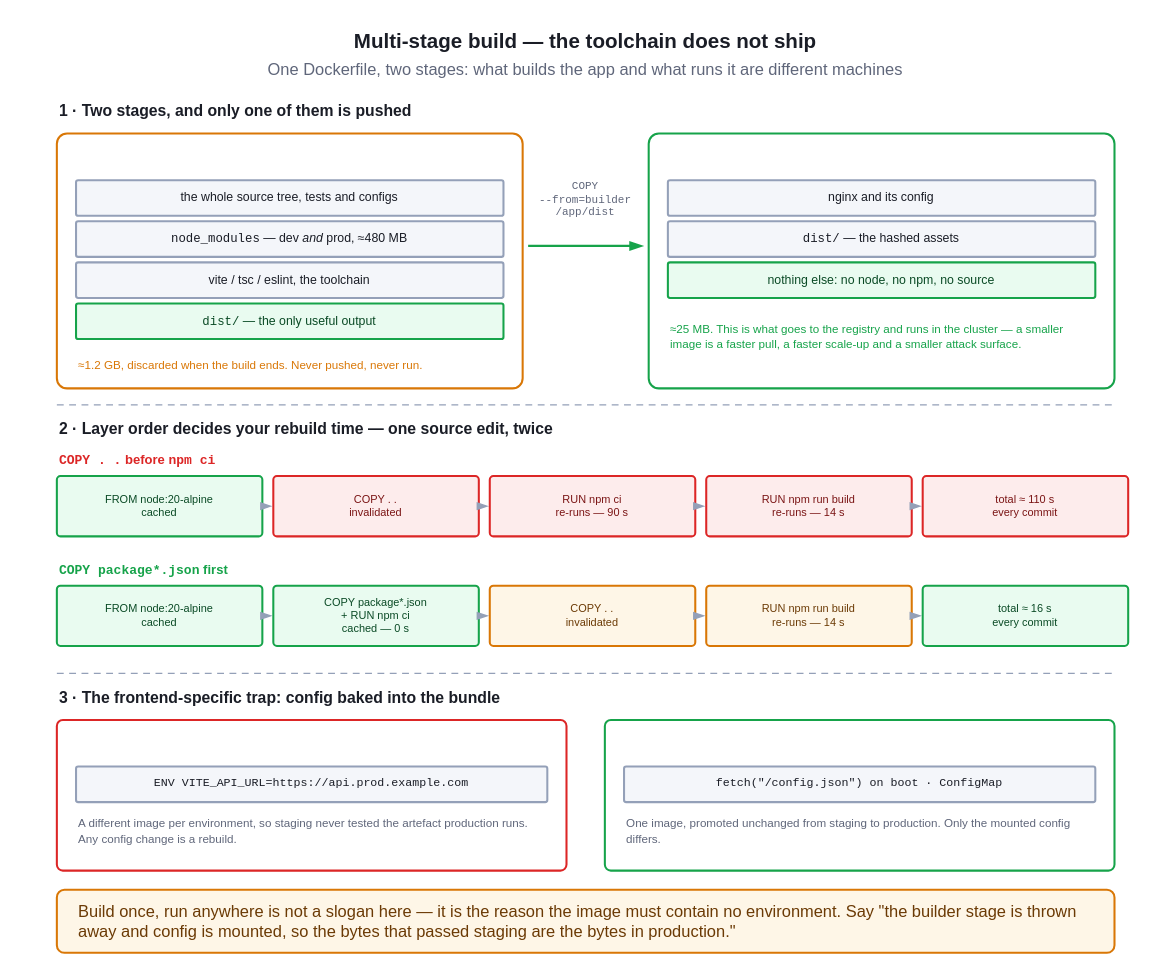
The diagram is 1170 pixels wide and 977 high, and some of its shapes have lost their labels. Each missing label, with the box of its shape:
Baked at build time: (55, 718, 567, 871)
Fetched at runtime: (603, 718, 1115, 871)
Stage 1 · builder — node:20-alpine: (55, 132, 523, 389)
Stage 2 · runtime — nginx:alpine: (647, 132, 1115, 389)
